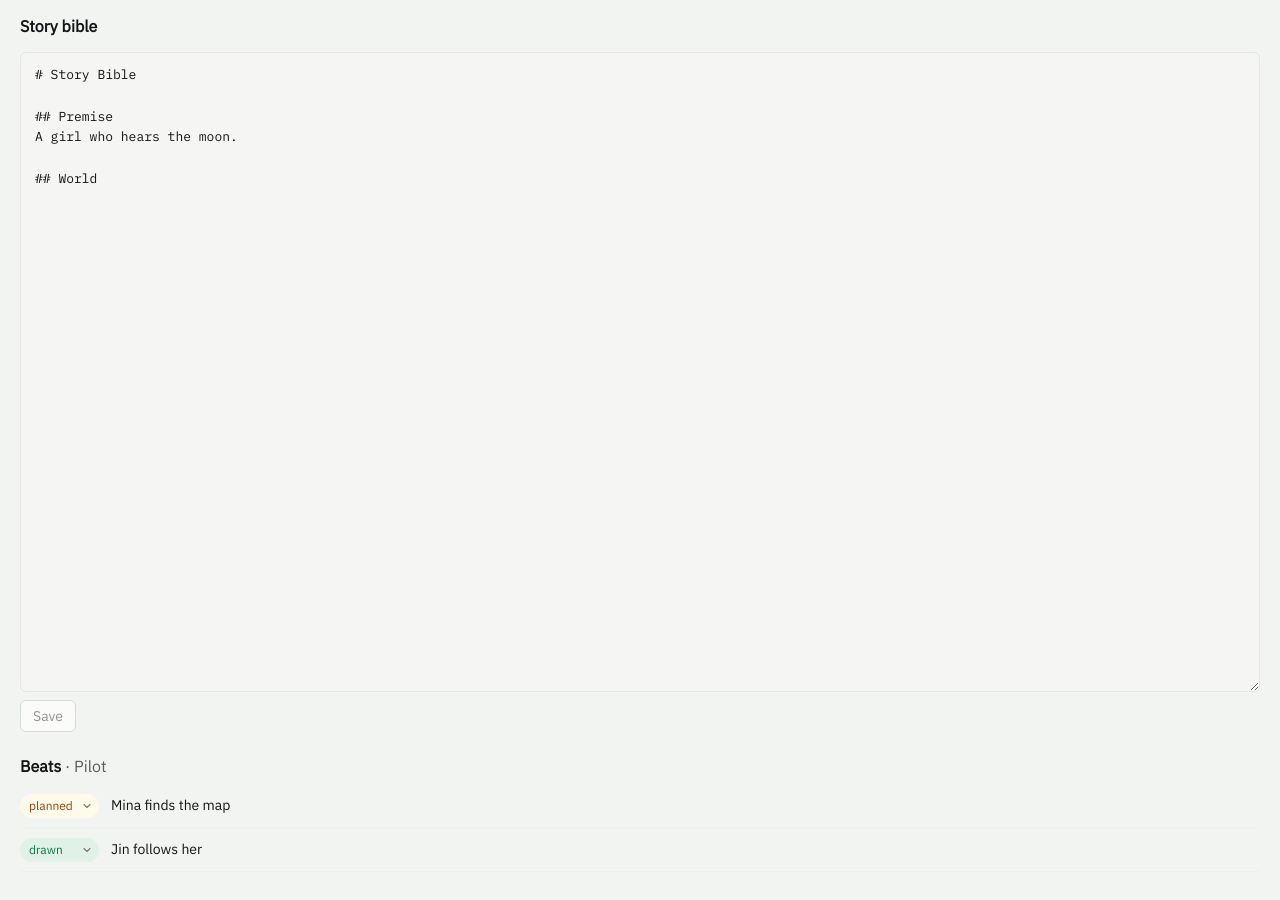
Test: StoryTab › shows a failed save and keeps the text
The width and height of the screenshot is (1280, 900).
In the text box with test id "bible-editor": (640, 372) [20, 52, 1260, 692], type "x"
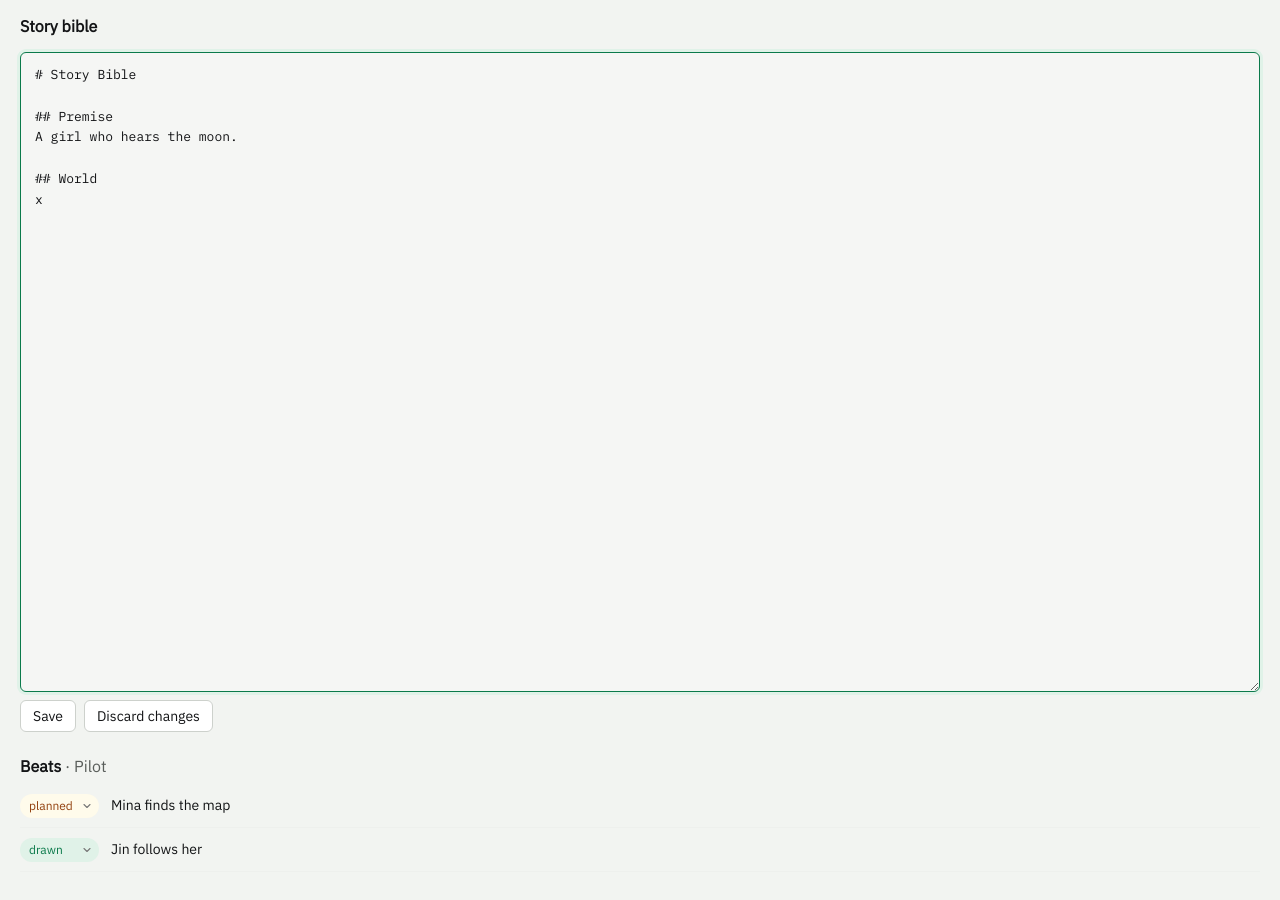
Click the button with test id "bible-save": (48, 716) [20, 700, 76, 732]
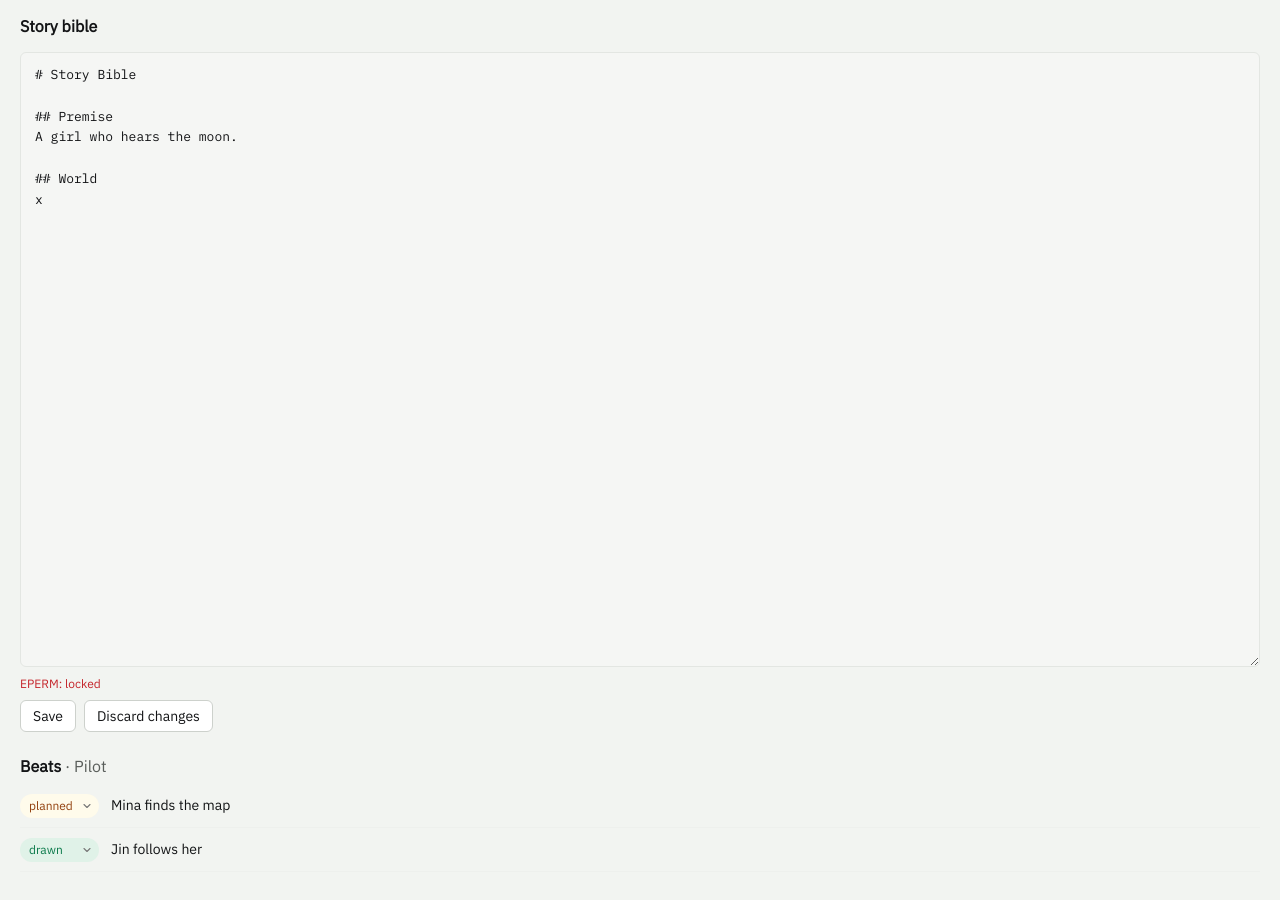
Expected: the button with test id "bible-save" is enabled, [20, 700, 76, 732]
Expected: the message reads "EPERM: locked", [20, 676, 101, 691]
